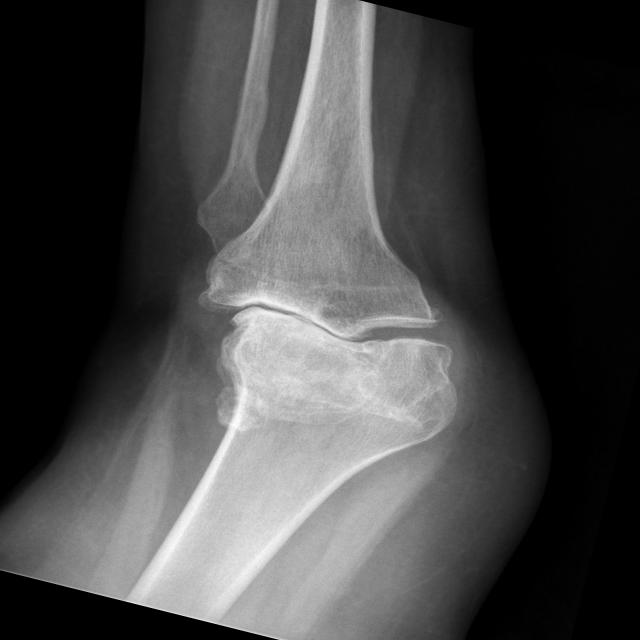Knee: (177, 221, 488, 447)
